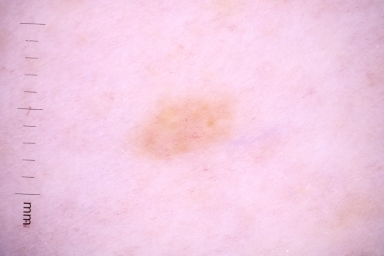nevus: (132, 102, 235, 158)
